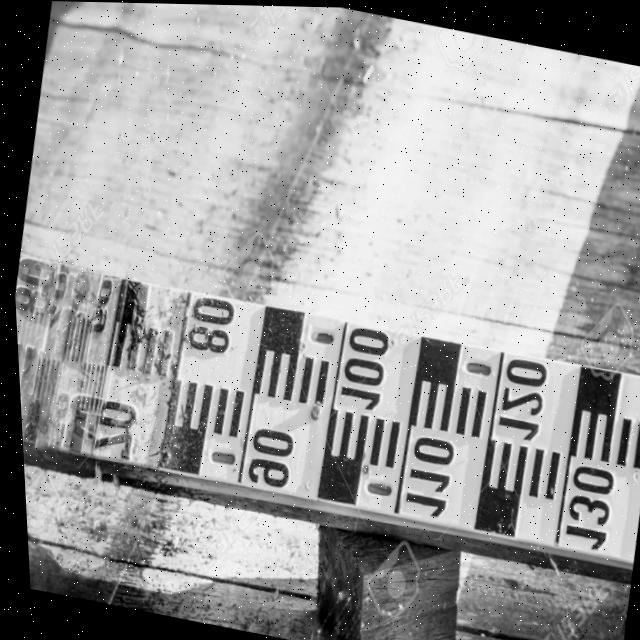water-meter: (12, 234, 640, 594)
